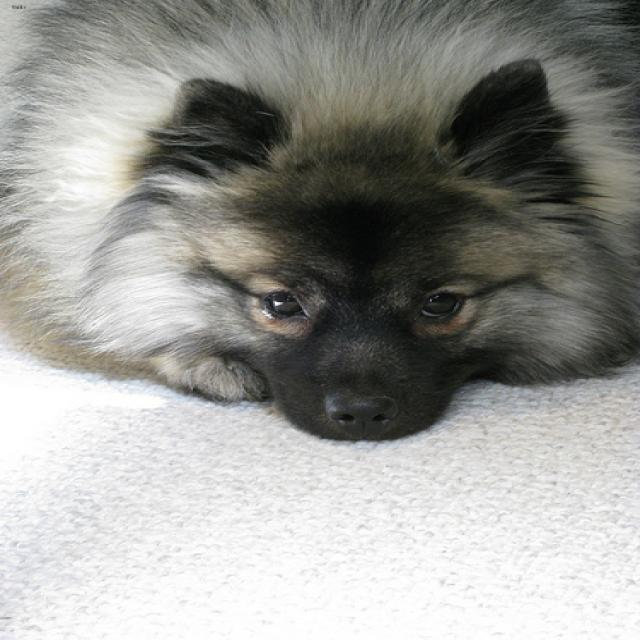dog-keeshond: (2, 1, 637, 454)
